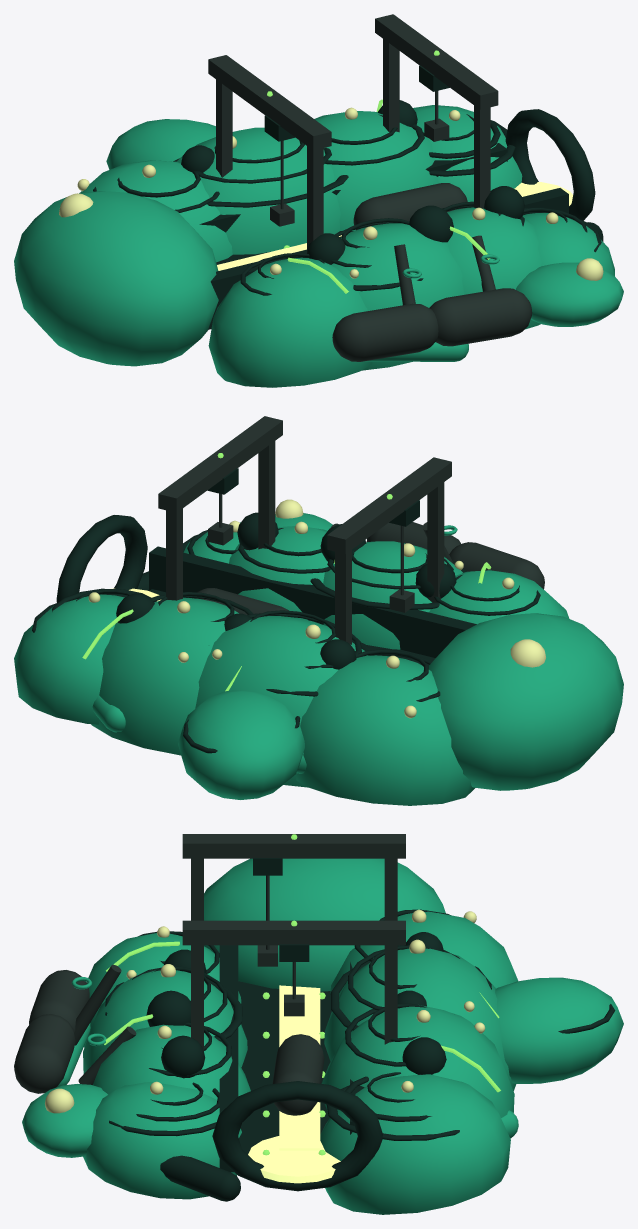
File: foundry-pelagia.glb
3 views of the same model, one above another, from view 1: azimuth 30°, elevation 25°; view 2: azimuth 150°, elevation 25°; view 3: azimuth 270°, elevation 25° (orthographic). The views are drawn at different scales.
Visible parts, largest first — view 1: stern_pod, husk_lobe_starboard_0, husk_lobe_port_1, husk_lobe_port_2, husk_lobe_starboard_1, husk_lobe_starboard_2, outrigger_lobe_small, ballast_tank_0, husk_lobe_port_0, ballast_tank_1, launch_mouth, gantry_beam_0 (+24 smaller); view 2: stern_pod, husk_lobe_port_0, husk_lobe_port_2, outrigger_lobe_big, husk_lobe_port_3, husk_lobe_port_1, bay_lip_starboard, husk_lobe_starboard_1, husk_lobe_starboard_0, husk_lobe_starboard_2, gantry_beam_0, gantry_beam_1 (+18 smaller); view 3: husk_lobe_port_3, stern_pod, husk_lobe_starboard_3, outrigger_lobe_big, husk_lobe_port_2, husk_lobe_port_1, launch_mouth, gantry_beam_1, gantry_beam_0, bay_floor, husk_lobe_starboard_2, husk_lobe_starboard_1 (+27 smaller).
Boxes of the visible parts, x1,y1,x2,y2 form: stern_pod: [14, 191, 218, 366]; husk_lobe_starboard_0: [208, 257, 372, 387]; husk_lobe_port_1: [176, 127, 340, 254]; husk_lobe_port_2: [314, 111, 438, 230]; husk_lobe_starboard_1: [331, 223, 464, 370]; husk_lobe_starboard_2: [447, 207, 541, 329]; outrigger_lobe_small: [516, 262, 623, 326]; ballast_tank_0: [332, 303, 438, 361]; husk_lobe_port_0: [79, 160, 232, 262]; ballast_tank_1: [429, 288, 532, 346]; launch_mouth: [505, 109, 595, 220]; gantry_beam_0: [208, 55, 331, 150]; stern_pod: [428, 613, 623, 790]; husk_lobe_port_0: [296, 655, 474, 805]; husk_lobe_port_2: [91, 597, 238, 755]; outrigger_lobe_big: [178, 690, 304, 799]; husk_lobe_port_3: [14, 594, 124, 724]; husk_lobe_port_1: [195, 616, 368, 787]; bay_lip_starboard: [149, 546, 476, 657]; husk_lobe_starboard_1: [323, 541, 462, 649]; husk_lobe_starboard_0: [429, 570, 569, 624]; husk_lobe_starboard_2: [229, 526, 327, 620]; gantry_beam_0: [327, 457, 451, 553]; gantry_beam_1: [158, 416, 282, 512]; husk_lobe_port_3: [320, 1074, 510, 1214]; stern_pod: [204, 858, 445, 991]; husk_lobe_starboard_3: [83, 1082, 241, 1199]; outrigger_lobe_big: [495, 977, 623, 1083]; husk_lobe_port_2: [321, 1005, 514, 1117]; husk_lobe_port_1: [324, 948, 516, 1090]; launch_mouth: [212, 1081, 382, 1191]; gantry_beam_1: [182, 920, 405, 945]; gantry_beam_0: [182, 834, 405, 858]; bay_floor: [238, 981, 331, 1154]; husk_lobe_starboard_2: [93, 1024, 250, 1099]; husk_lobe_starboard_1: [83, 970, 247, 1073].
Bounding box in the file's own units: 319 × 136 × 301.
